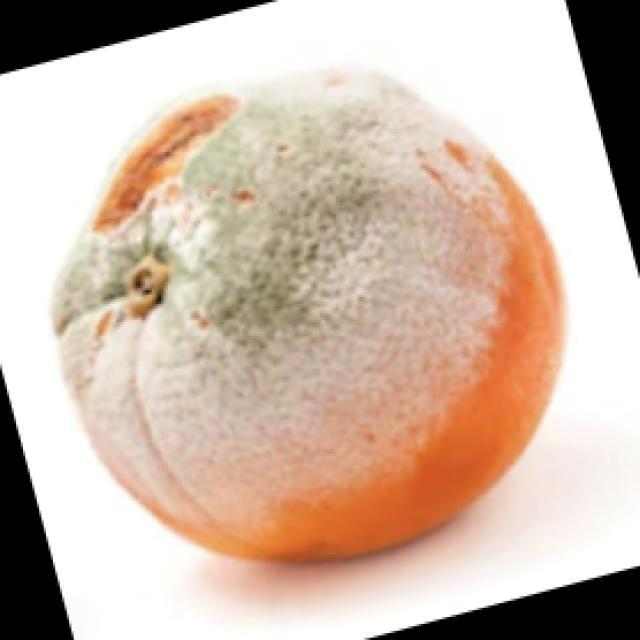sangat-busuk: (53, 69, 562, 559)
